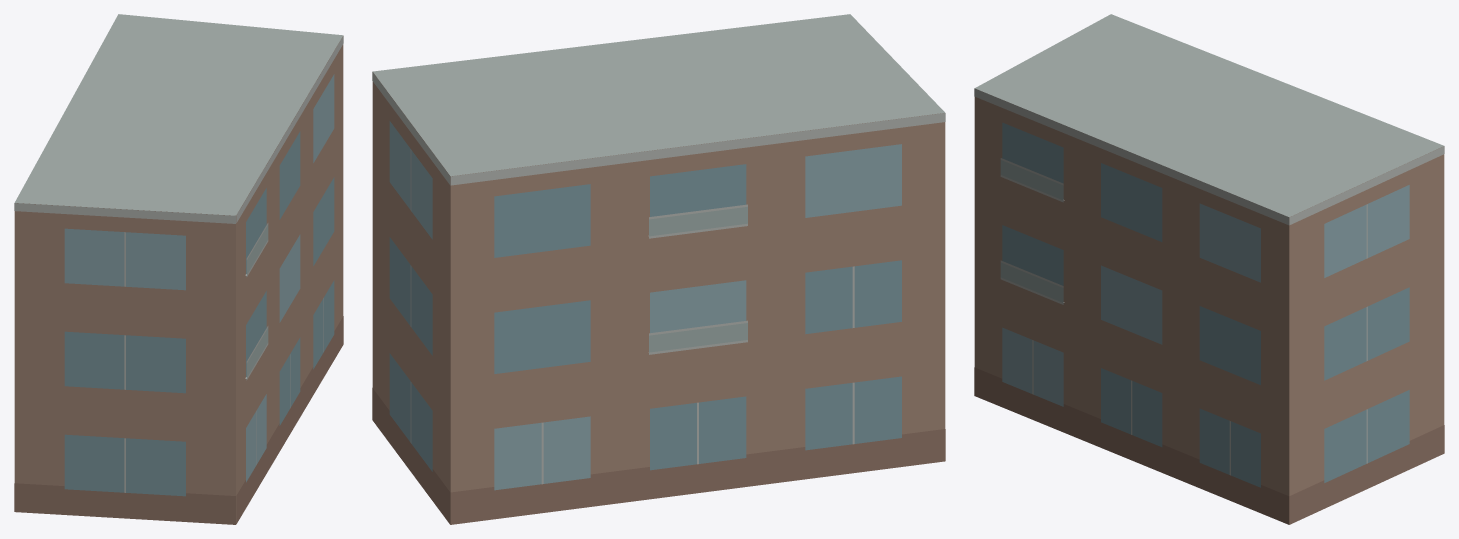
Rendered from survey-upis-32717486.glb.
3 views of the same model, side by side, from view 1: azimuth 30°, elevation 25°; view 2: azimuth 150°, elevation 25°; view 3: azimuth 270°, elevation 25° (orthographic). The views are drawn at different scales.
Parts seen in each view (by area): view 1: survey-upis-32717486.tmp; view 2: survey-upis-32717486.tmp; view 3: survey-upis-32717486.tmp.
Part boxes in pixels (x1,y1,x2,y2): survey-upis-32717486.tmp: (14,14,343,524); survey-upis-32717486.tmp: (372,14,945,524); survey-upis-32717486.tmp: (974,14,1444,524).
Bounding box in the file's own units: 12.97 × 9.15 × 12.68.
